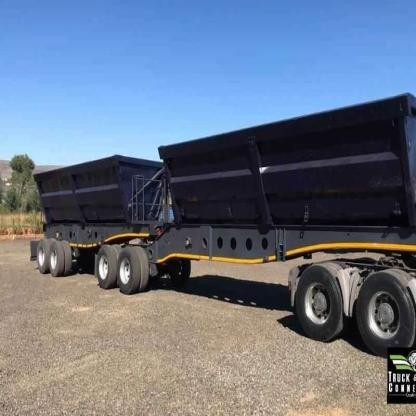dump_truck: (23, 80, 416, 354)
